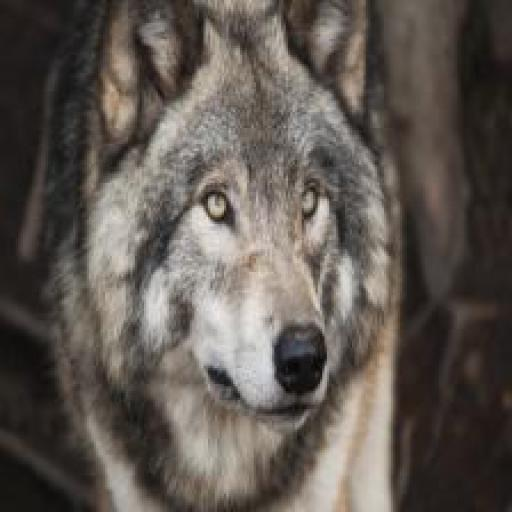wolf: (27, 0, 406, 510)
